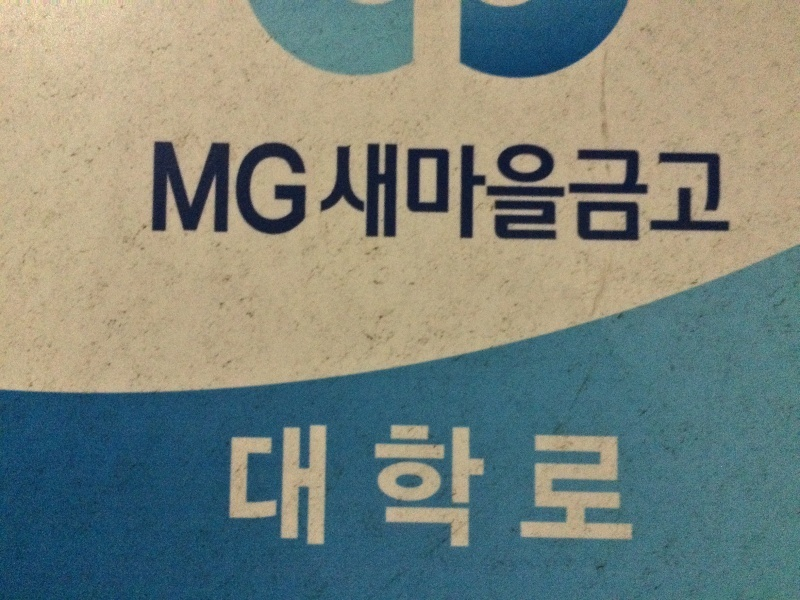text: (241, 418, 256, 552), (257, 418, 272, 552), (273, 418, 288, 552), (289, 418, 304, 552), (305, 418, 320, 552), (321, 418, 336, 552), (337, 418, 352, 552), (353, 418, 368, 552), (369, 418, 384, 552), (385, 418, 400, 552), (401, 418, 416, 552), (417, 418, 432, 552), (433, 418, 448, 552), (449, 418, 464, 552), (465, 418, 480, 552), (481, 418, 496, 552), (497, 418, 512, 552), (513, 418, 528, 552), (529, 418, 544, 552), (545, 418, 560, 552), (561, 418, 576, 552), (577, 418, 592, 552), (593, 418, 608, 552), (609, 418, 624, 552), (337, 141, 352, 252), (353, 141, 368, 252), (369, 141, 384, 252), (385, 141, 400, 252), (401, 141, 416, 252), (417, 141, 432, 252), (433, 141, 448, 252), (449, 141, 464, 252), (465, 141, 480, 252), (481, 141, 496, 252), (497, 141, 512, 252), (513, 141, 528, 252), (529, 141, 544, 252), (545, 141, 560, 252), (561, 141, 576, 252), (577, 141, 592, 252), (593, 141, 608, 252), (609, 141, 624, 252), (625, 141, 640, 252), (641, 141, 656, 252), (657, 141, 672, 252), (673, 141, 688, 252), (689, 141, 704, 252), (705, 141, 720, 252), (625, 418, 637, 552), (161, 140, 176, 236), (177, 140, 192, 236), (193, 140, 208, 236), (209, 140, 224, 236), (225, 140, 240, 236), (241, 140, 256, 236), (257, 140, 272, 236), (273, 140, 288, 236), (289, 140, 304, 236), (721, 141, 733, 252), (231, 418, 240, 552), (153, 140, 160, 236), (333, 141, 336, 252), (305, 140, 307, 236)
